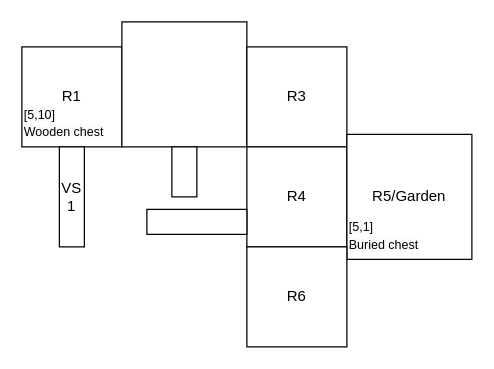
Image size: 494x369. Some labels were removed from this diagram. Each missing label, with the centre of its shape:
"R2" belongs at pixel 184 84.
"Secret tunnel" belongs at pixel 196 221.
"VS 2" belongs at pixel 184 171.
